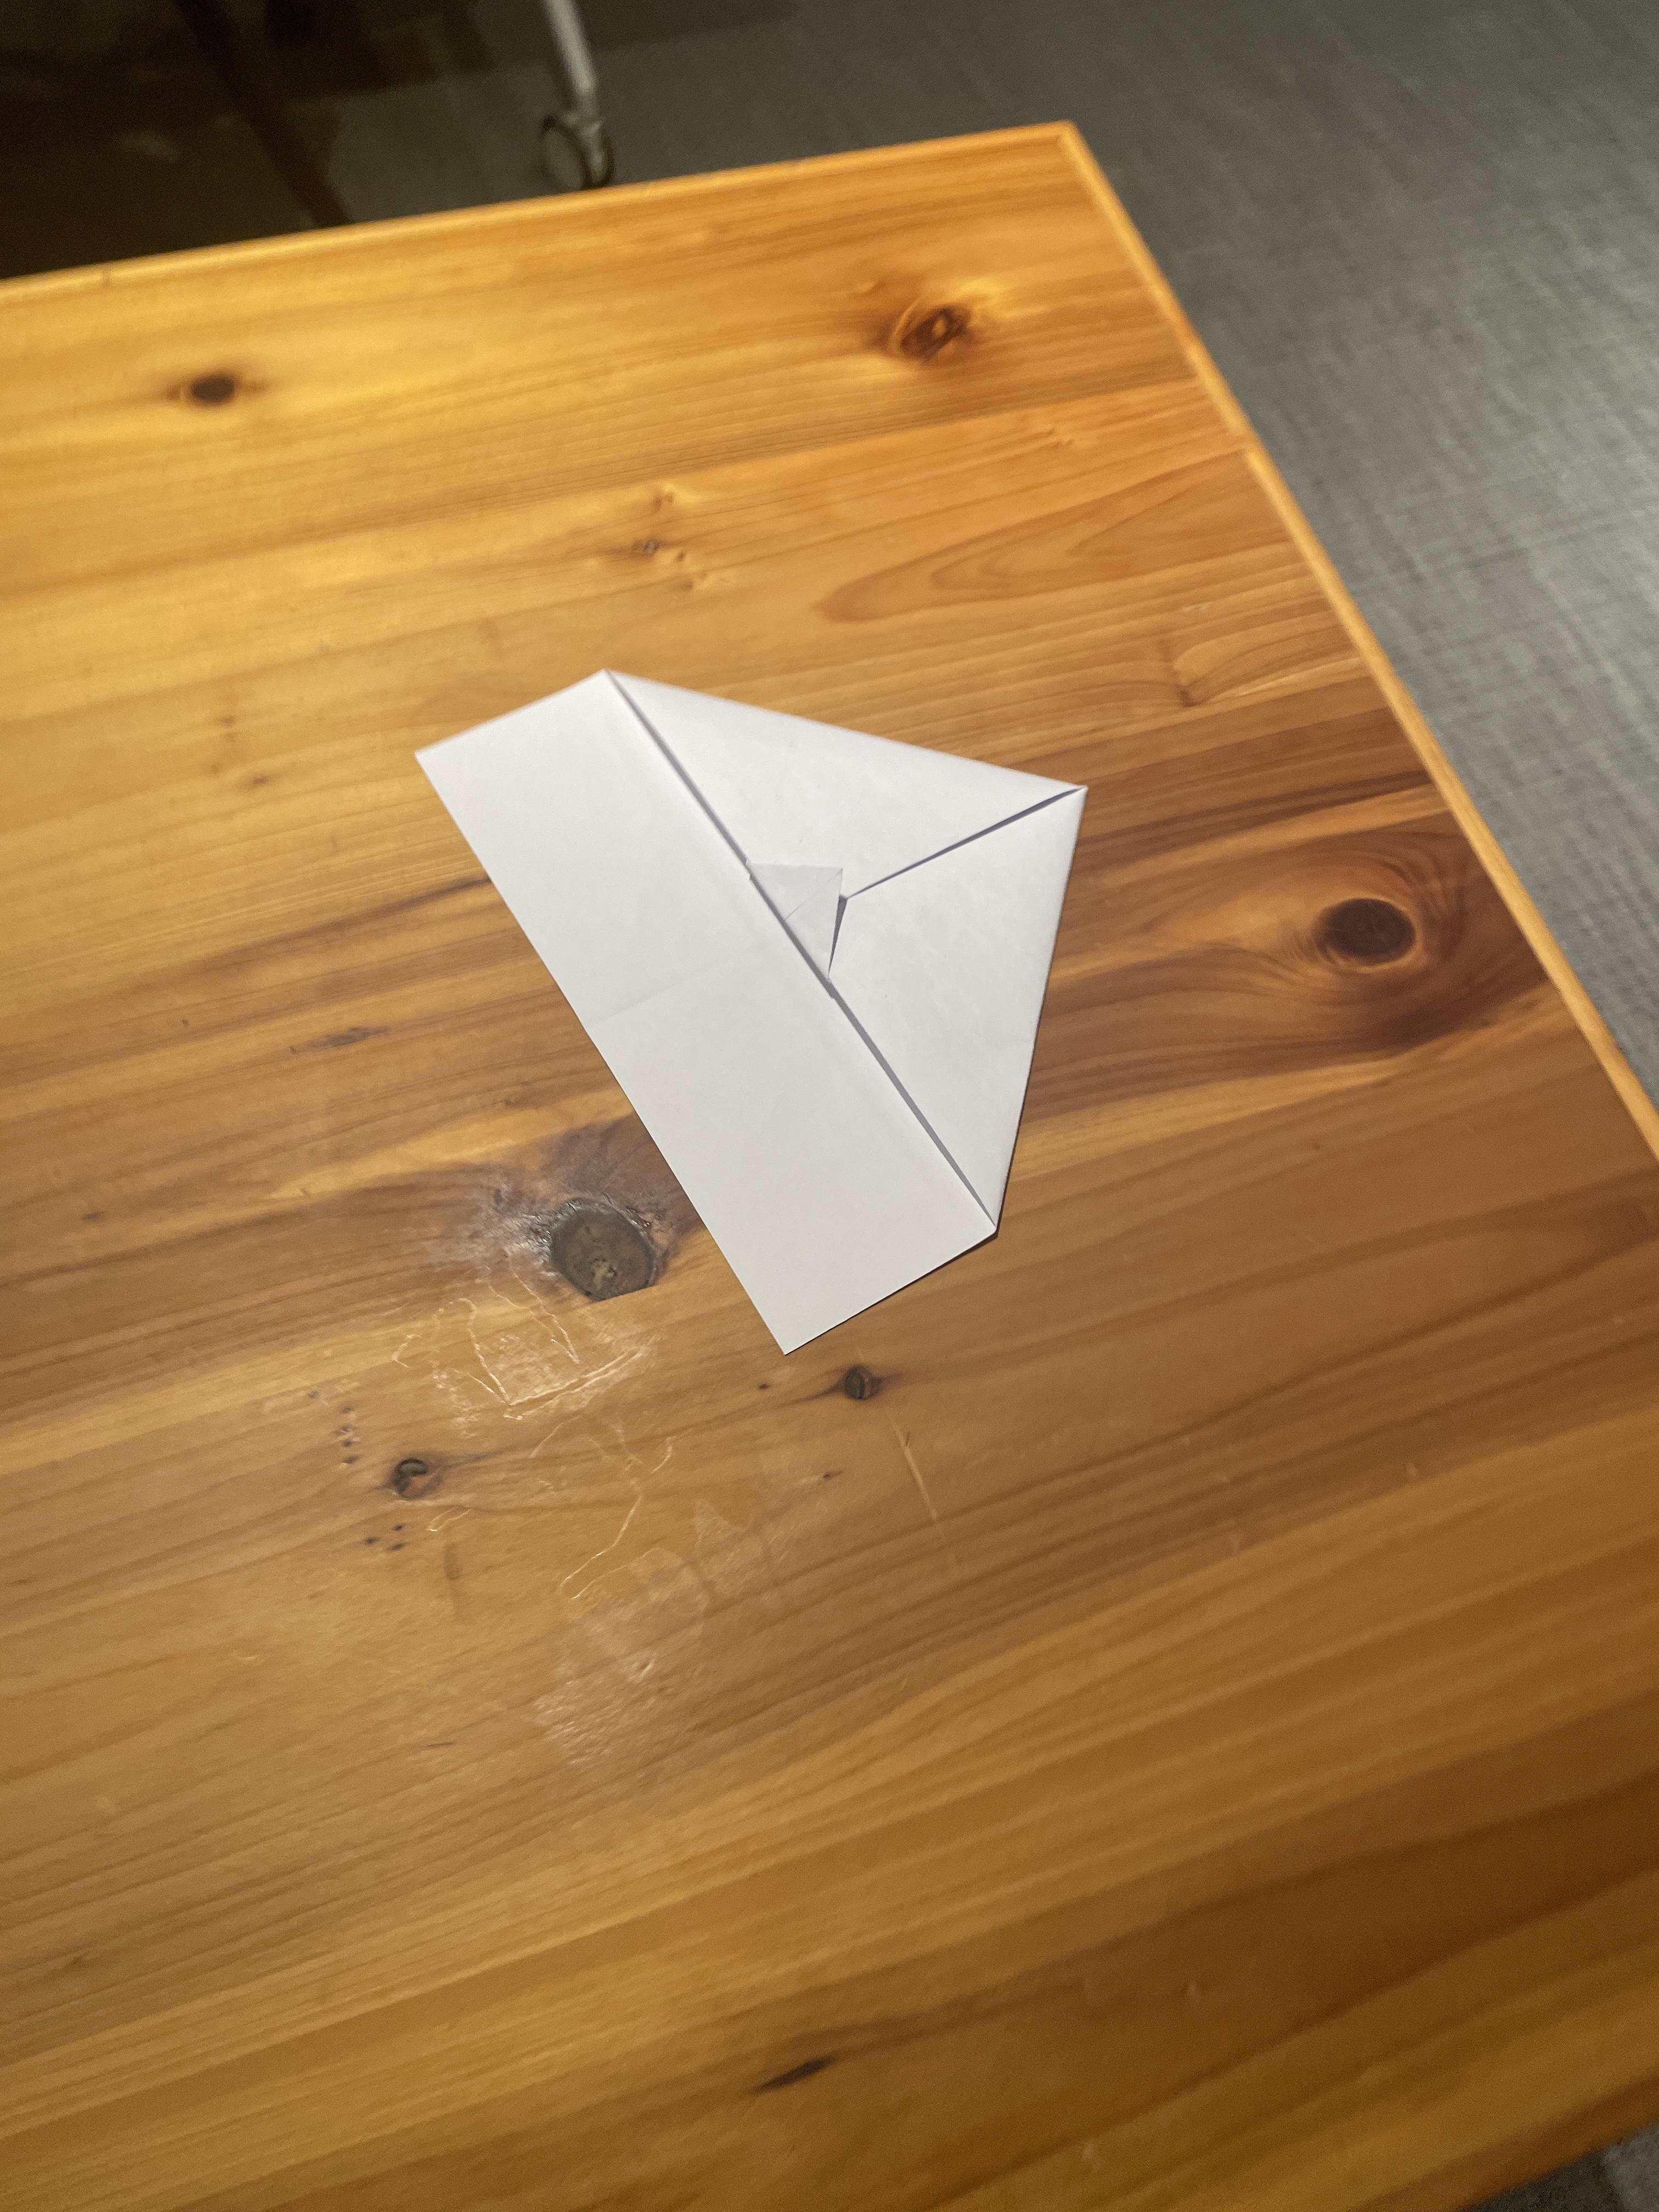shape_2: (350, 594, 1232, 1423)
